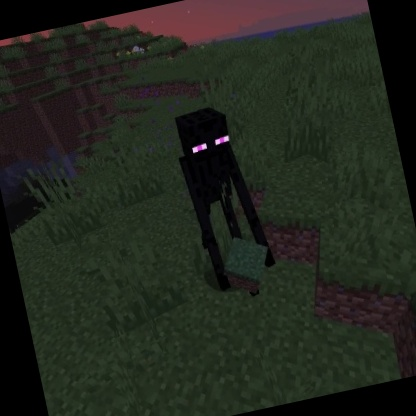enderman: (166, 97, 284, 309)
